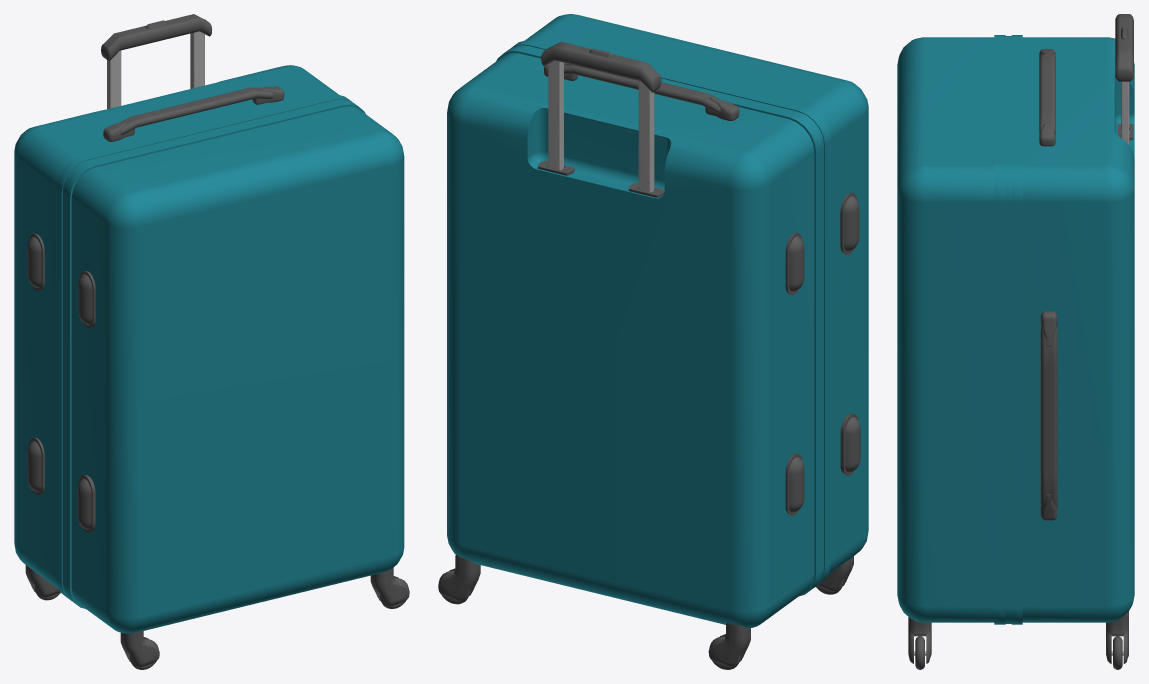
The model's file is suitcase.glb.
3 views of the same model, side by side, from view 1: azimuth 30°, elevation 25°; view 2: azimuth 150°, elevation 25°; view 3: azimuth 270°, elevation 25° (orthographic). The views are drawn at different scales.
Parts seen in each view (by area): view 1: Object_2, Object_3, Object_4, Object_5; view 2: Object_2, Object_3, Object_4, Object_5; view 3: Object_2, Object_3, Object_4, Object_5.
Boxes of the visible parts, <box> form: Object_2: <box>14,65,404,633</box>; Object_3: <box>27,14,408,669</box>; Object_4: <box>25,565,409,667</box>; Object_5: <box>107,31,204,109</box>; Object_2: <box>447,14,868,628</box>; Object_3: <box>438,42,860,669</box>; Object_4: <box>438,160,853,666</box>; Object_5: <box>548,60,654,192</box>; Object_2: <box>897,35,1134,624</box>; Object_3: <box>915,14,1133,669</box>; Object_4: <box>908,123,1133,663</box>; Object_5: <box>914,81,1129,655</box>.
Bounding box in the file's own units: 45.54 × 74.7 × 28.37.
